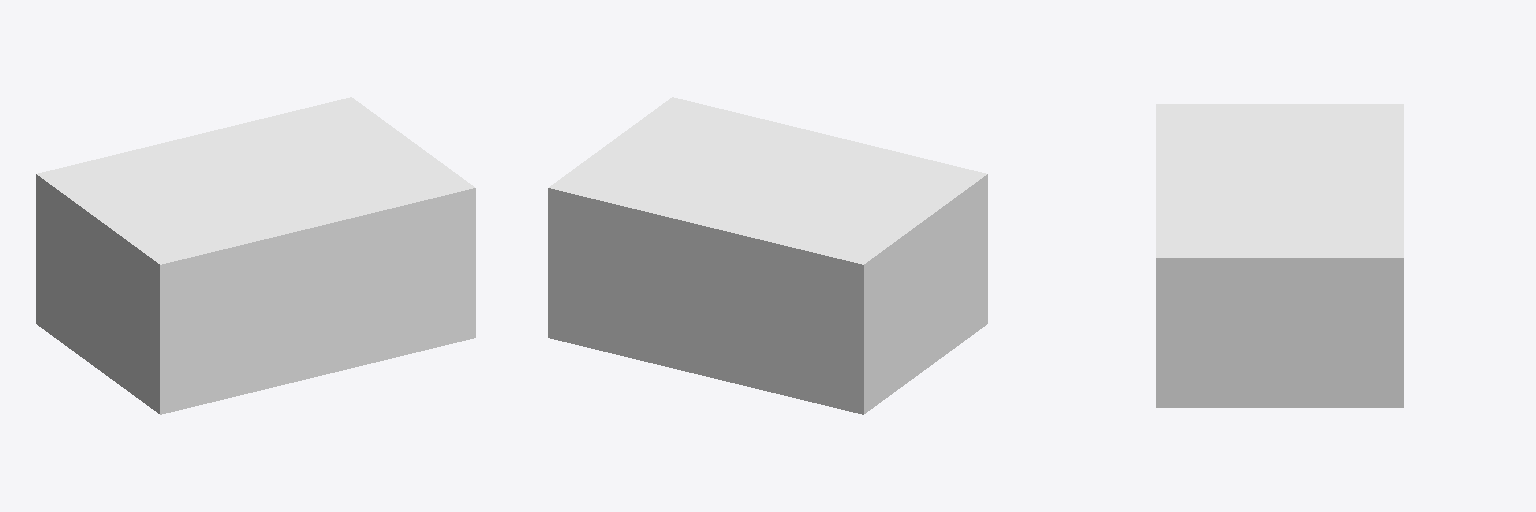
Rendered from Ammopack.obj.
The picture shows the model from 3 angles: view 1: azimuth 30°, elevation 25°; view 2: azimuth 150°, elevation 25°; view 3: azimuth 270°, elevation 25°; orthographic projection.
Parts seen in each view (by area): view 1: Ammopack; view 2: Ammopack; view 3: Ammopack.
Boxes of the visible parts, <box> form: Ammopack: <box>36,97,475,414</box>; Ammopack: <box>548,97,987,414</box>; Ammopack: <box>1156,104,1403,407</box>.
Bounding box in the file's own units: 0.1321 × 0.0601 × 0.0901.